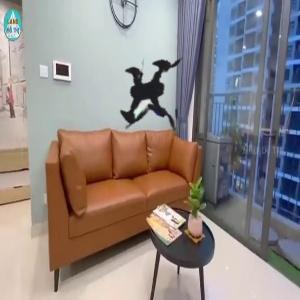drone: (63, 8, 226, 171)
